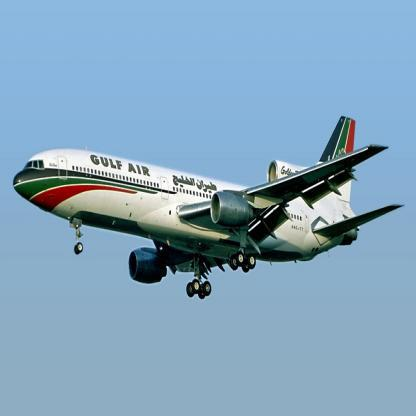CIV_Plane: (7, 112, 407, 307)
